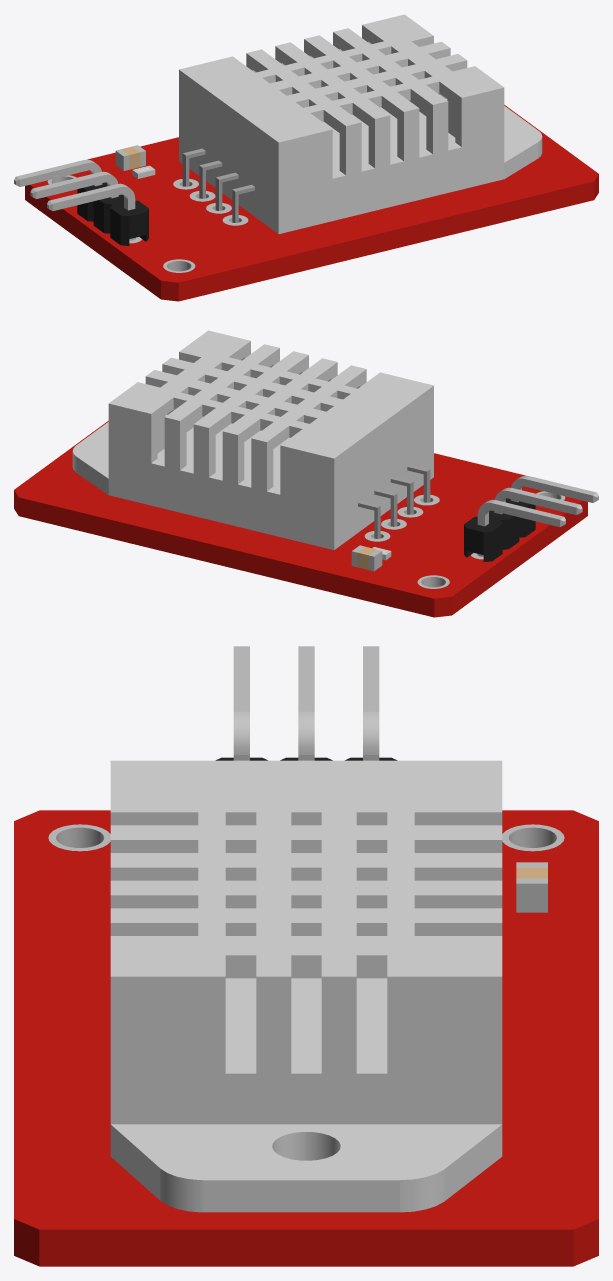
Rendered from DHT.fbx.
The picture shows the model from 3 angles, top to bottom: view 1: azimuth 30°, elevation 25°; view 2: azimuth 150°, elevation 25°; view 3: azimuth 270°, elevation 25°; orthographic projection. The views are drawn at different scales.
Parts seen in each view (by area): view 1: Component_3_1, board1, body2, pin2, pin3, pin1, body3, ceramic1, body1, n__ka_1_3, n__ka_1_4; view 2: Component_3_1, board1, body1, pin1, pin3, pin2, body3, ceramic1, body2, n__ka_1_2, n__ka_1_1; view 3: Component_3_1, board1, pin1, pin2, pin3, ceramic1.
Boxes of the visible parts, x1,y1,x2,y2 form: Component_3_1: [179, 14, 542, 233]; board1: [25, 105, 598, 301]; body2: [110, 200, 148, 245]; pin2: [47, 183, 135, 240]; pin3: [30, 171, 118, 198]; pin1: [14, 159, 102, 186]; body3: [93, 194, 123, 233]; ceramic1: [115, 145, 145, 170]; body1: [77, 182, 107, 221]; n__ka_1_3: [215, 172, 238, 210]; n__ka_1_4: [182, 148, 205, 186]; Component_3_1: [72, 330, 433, 549]; board1: [14, 421, 587, 617]; body1: [464, 516, 502, 561]; pin1: [477, 499, 565, 556]; pin3: [494, 487, 582, 514]; pin2: [510, 475, 598, 502]; body3: [489, 510, 519, 549]; ceramic1: [351, 545, 382, 571]; body2: [505, 498, 535, 537]; n__ka_1_2: [374, 488, 397, 526]; n__ka_1_1: [407, 464, 430, 502]; Component_3_1: [110, 760, 502, 1212]; board1: [14, 810, 598, 1266]; pin1: [363, 646, 379, 760]; pin2: [233, 646, 249, 760]; pin3: [298, 646, 314, 760]; ceramic1: [516, 862, 547, 912].
Size of the model in its own units: 44.47 by 10.4 by 23.
